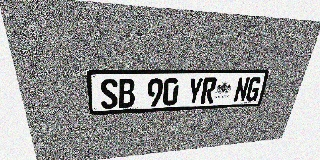0: (162, 78, 179, 106)
9: (147, 78, 164, 107)
B: (118, 79, 135, 108)
G: (245, 77, 262, 102)
N: (233, 77, 250, 102)
R: (200, 77, 217, 104)
S: (99, 79, 118, 109)
Y: (186, 78, 204, 105)
